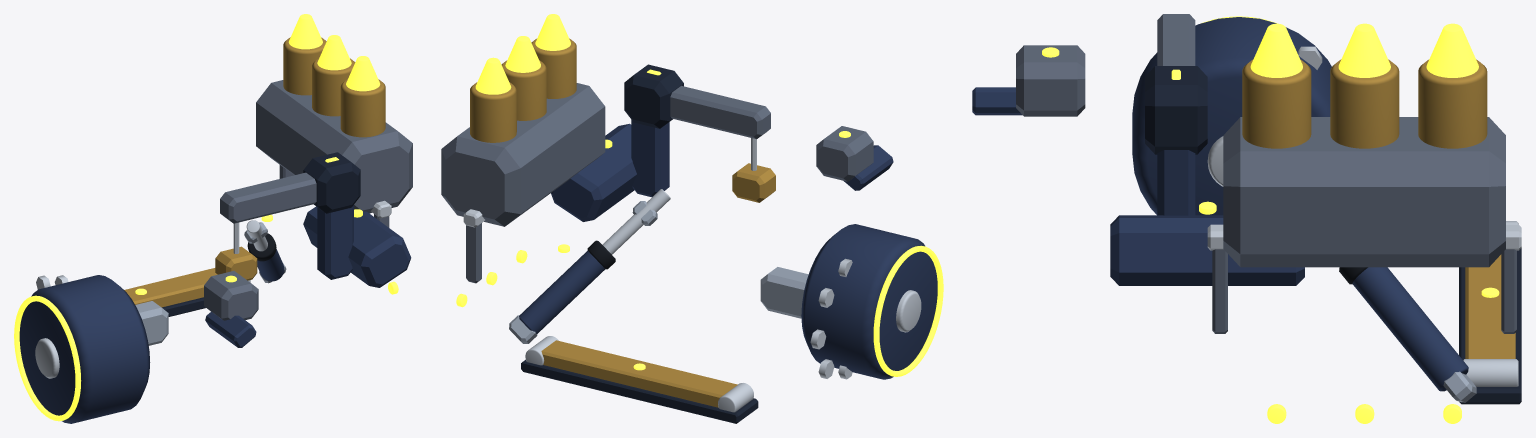
Rendered from tower_nova_rate_s10.glb.
3 renders of one model, left to right at view 1: azimuth 30°, elevation 25°; view 2: azimuth 150°, elevation 25°; view 3: azimuth 270°, elevation 25°, orthographic. The views are drawn at different scales.
Visible parts, largest first — view 1: nova_mag_drum, nova_hopper_ext, nova_hoist_chute_b, nova_hoist_arm, nova_hoist_motor, nova_hoist_post, nova_shell_b0, nova_ejector_box, nova_conveyor, nova_mag_glow, nova_shell_b1, nova_shell_b2 (+11 smaller); view 2: nova_mag_drum, nova_hopper_ext, nova_conveyor, nova_hoist_chute_b, nova_hoist_arm, nova_conveyor_frame, nova_hoist_motor, nova_hoist_post, nova_loader_ram_body, nova_ejector_box, nova_shell_b2, nova_mag_glow (+13 smaller); view 3: nova_hopper_ext, nova_mag_drum, nova_hoist_chute_b, nova_loader_ram_body, nova_shell_b1, nova_shell_b0, nova_hoist_motor, nova_shell_b2, nova_ejector_box, nova_conveyor, nova_hoist_post, nova_conveyor_frame (+11 smaller).
Boxes of the visible parts, x1,y1,x2,y2 form: nova_mag_drum: (19, 275, 150, 423); nova_hopper_ext: (256, 80, 412, 213); nova_hoist_chute_b: (303, 206, 411, 287); nova_hoist_arm: (220, 172, 316, 223); nova_hoist_motor: (303, 152, 360, 213); nova_hoist_post: (317, 205, 353, 279); nova_shell_b0: (340, 79, 385, 137); nova_ejector_box: (204, 271, 258, 320); nova_conveyor: (124, 268, 217, 307); nova_mag_glow: (14, 295, 81, 421); nova_shell_b1: (312, 58, 355, 116); nova_shell_b2: (283, 37, 326, 95); nova_mag_drum: (801, 224, 937, 379); nova_hopper_ext: (441, 83, 605, 226); nova_conveyor: (541, 340, 737, 407); nova_hoist_chute_b: (551, 123, 636, 221); nova_hoist_arm: (670, 85, 770, 139); nova_conveyor_frame: (521, 359, 758, 423); nova_hoist_motor: (624, 64, 683, 128); nova_hoist_post: (631, 120, 669, 197); nova_loader_ram_body: (519, 250, 605, 334); nova_ejector_box: (816, 126, 873, 181); nova_shell_b2: (470, 82, 516, 142); nova_mag_glow: (873, 245, 943, 376); nova_hopper_ext: (1223, 117, 1505, 267); nova_mag_drum: (1132, 17, 1331, 215); nova_hoist_chute_b: (1110, 215, 1304, 285); nova_loader_ram_body: (1352, 267, 1468, 391); nova_shell_b1: (1330, 59, 1399, 148); nova_shell_b0: (1242, 59, 1311, 148); nova_hoist_motor: (1145, 66, 1207, 154); nova_shell_b2: (1418, 59, 1487, 148); nova_ejector_box: (1016, 45, 1085, 116); nova_conveyor: (1465, 254, 1515, 358); nova_hoist_post: (1157, 150, 1195, 215); nova_conveyor_frame: (1459, 248, 1521, 404).
Bounding box in the file's own units: 2.08 × 1.48 × 1.75.
